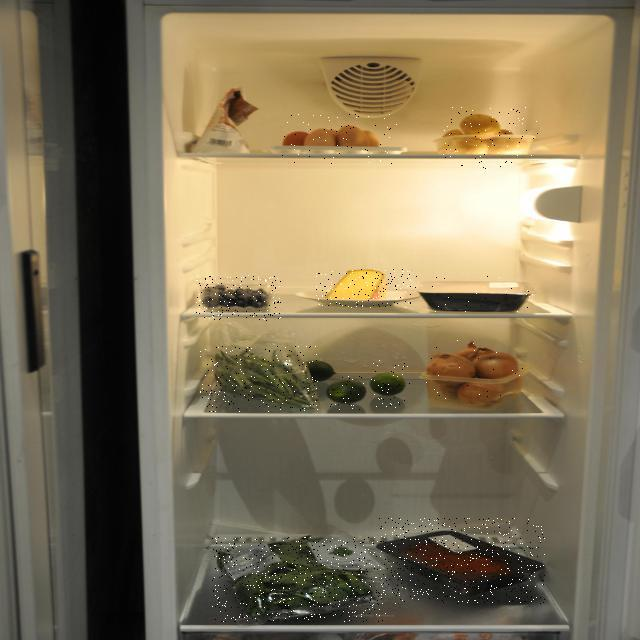cheese: (316, 269, 411, 308)
eggs: (279, 114, 399, 164)
green beans: (200, 345, 318, 412)
lime: (371, 360, 410, 408), (328, 376, 364, 410)
meat: (379, 518, 545, 604), (412, 274, 539, 314)
olive: (196, 275, 281, 321)
onion: (425, 340, 524, 400)
potatoes: (443, 105, 539, 169)
spinach: (212, 537, 389, 622)
